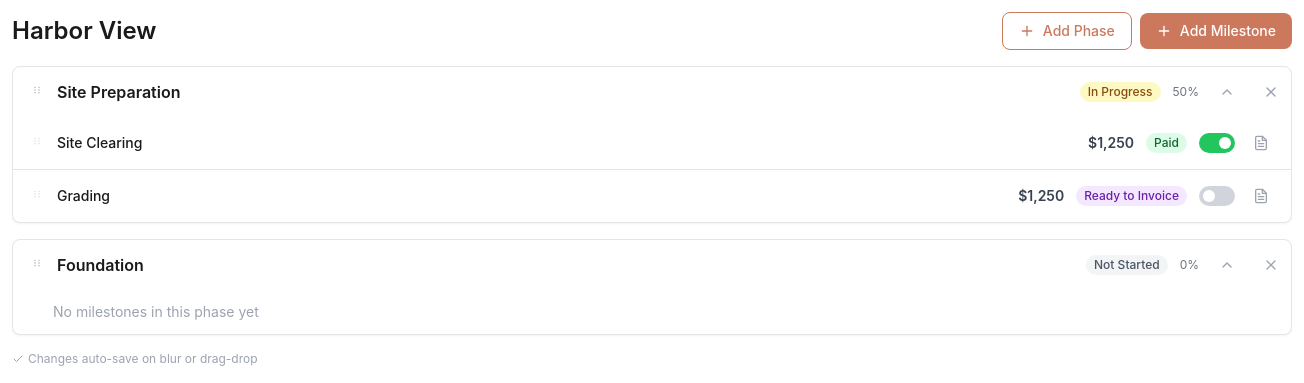
ScheduleBuilderPage › hides milestone rows when phase is collapsed
The image size is (1304, 383).
expect the text "Site Clearing" is shown: met, box [57,134,142,151]
Click the button "Site Preparation In Progress 50%": (119, 92) [13,67,1251,117]
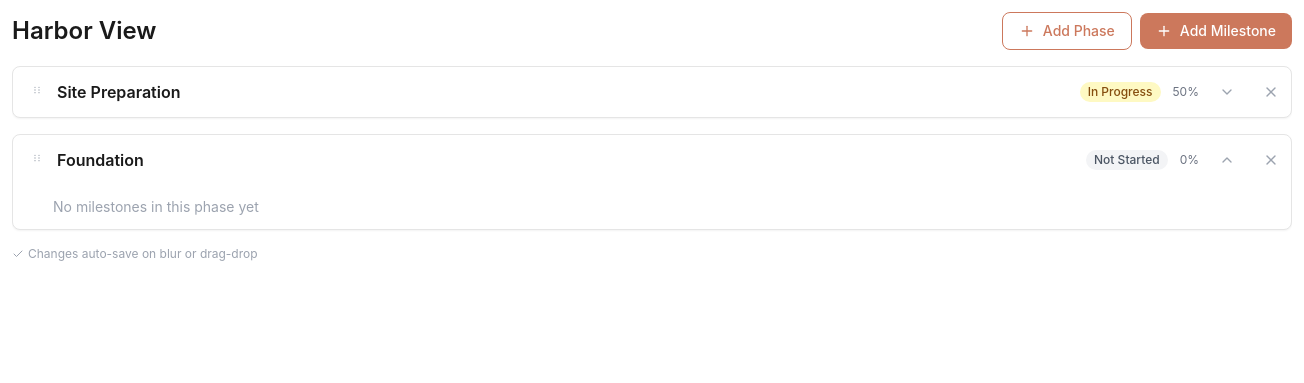
expect the text "Site Clearing" is gone: met
